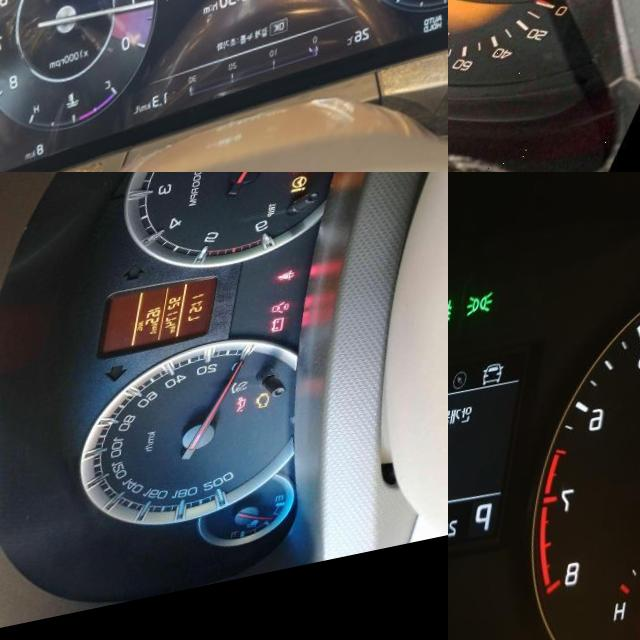FrontFogLight: (448, 311, 462, 338)
SideLamp: (475, 305, 504, 331)
